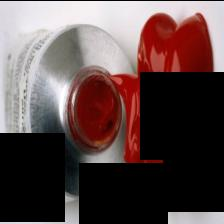red: (109, 12, 213, 190)
